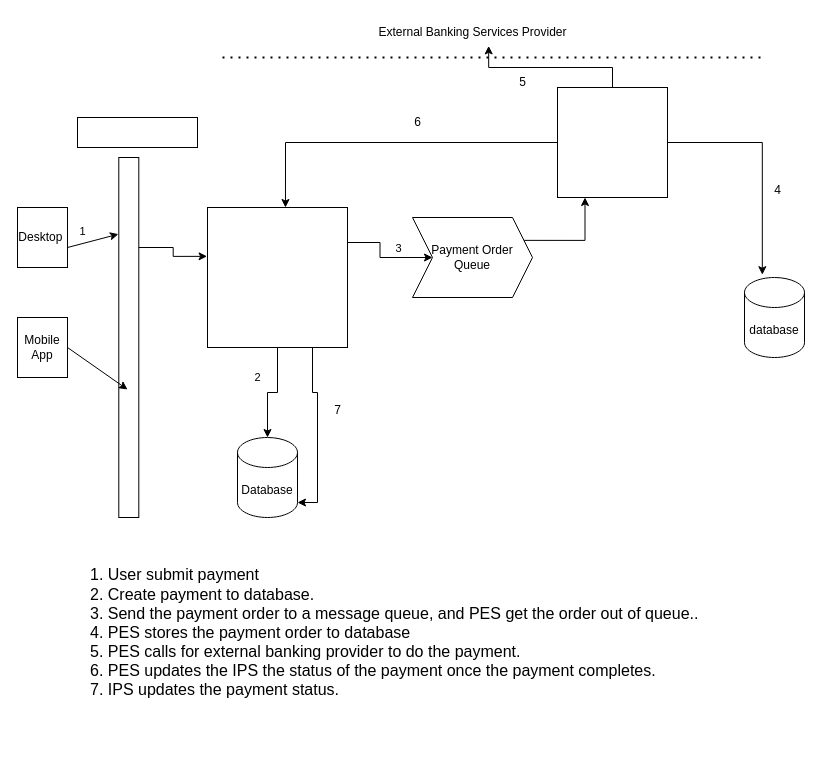
This 822x764 diagram has some shape labels left out. The shapes that lost their labels are listed below. From the top down, each one's centre as x and y in pixels, then its label:
At (x=137, y=132): "API Gateway/Load Balancer".
At (x=612, y=142): "Payment Execution System".
At (x=277, y=277): "Invoice Payment System".
